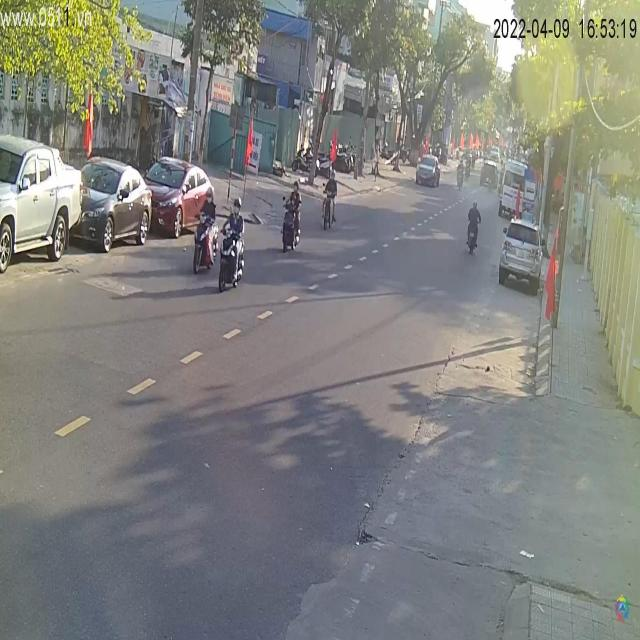car: (1, 138, 83, 278), (73, 158, 155, 254), (143, 156, 216, 240), (499, 218, 544, 296), (499, 161, 539, 222), (414, 156, 441, 188)
motorcycle: (216, 218, 247, 294), (190, 202, 218, 274), (277, 188, 302, 252), (318, 178, 340, 233), (465, 216, 482, 258)
